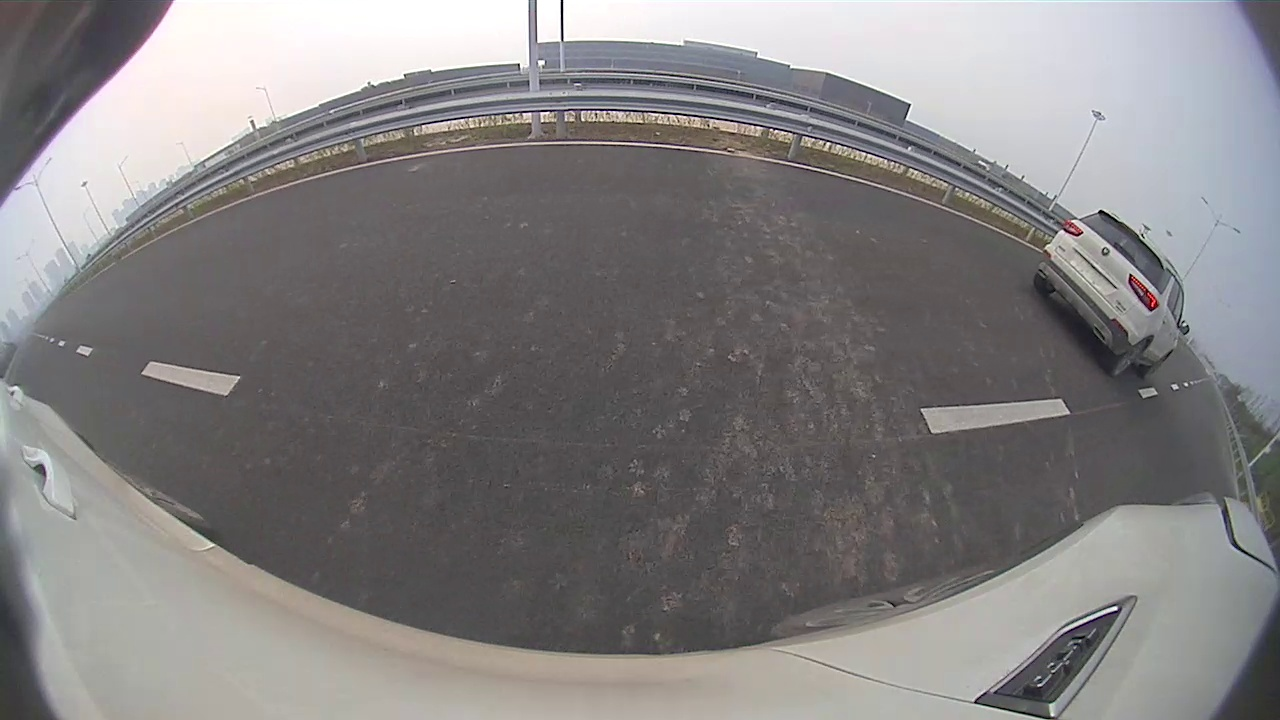car: (1034, 209, 1189, 378)
rear: (1114, 338, 1150, 378)
